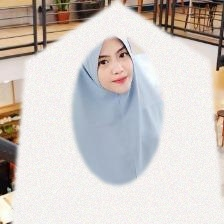Mukena: (6, 35, 224, 224)
